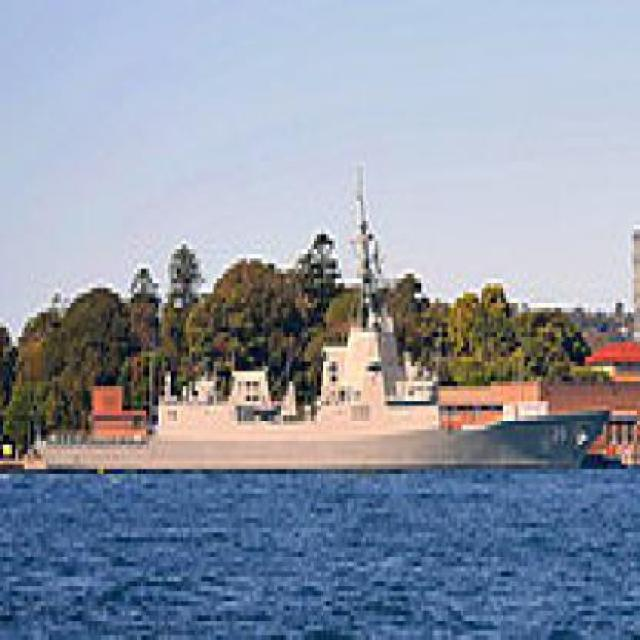warship2: (28, 211, 611, 476)
